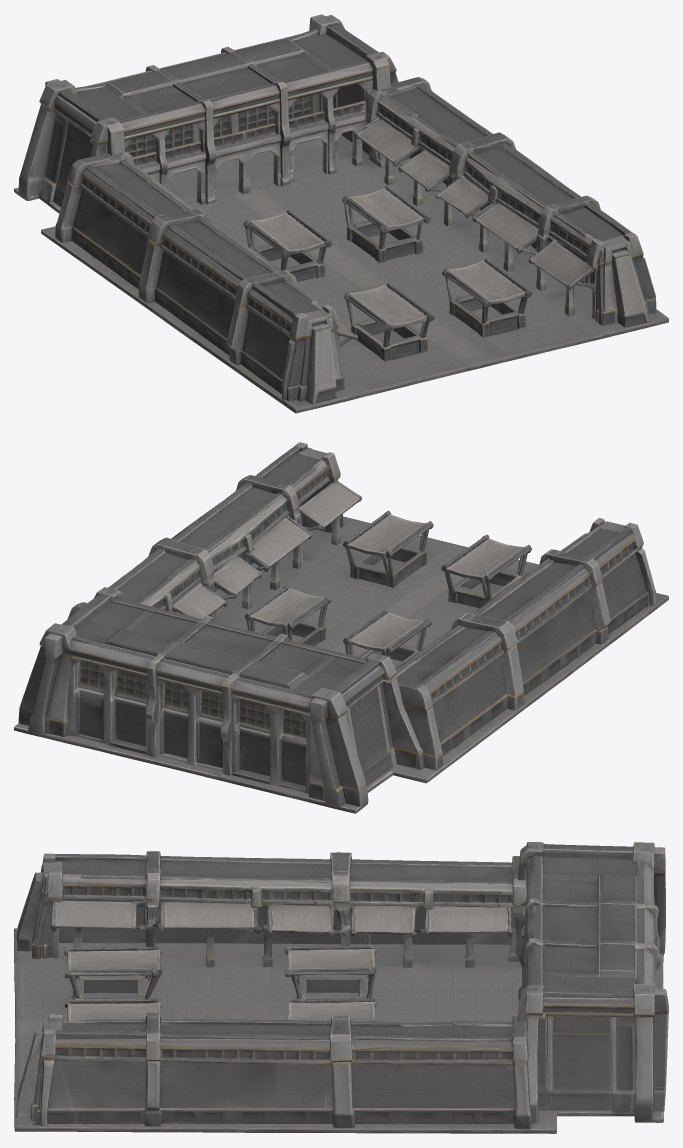
File: imperial_market_district.glb
3 views of the same model, one above another, from view 1: azimuth 30°, elevation 25°; view 2: azimuth 150°, elevation 25°; view 3: azimuth 270°, elevation 25° (orthographic). The views are drawn at different scales.
Parts seen in each view (by area): view 1: mesh_node; view 2: mesh_node; view 3: mesh_node.
Boxes of the visible parts, x1,y1,x2,y2 form: mesh_node: [14, 14, 668, 413]; mesh_node: [14, 442, 668, 813]; mesh_node: [14, 842, 668, 1133].
Size of the model in its own units: 34.07 by 8.9 by 46.08.
1 material, 1 textured.
